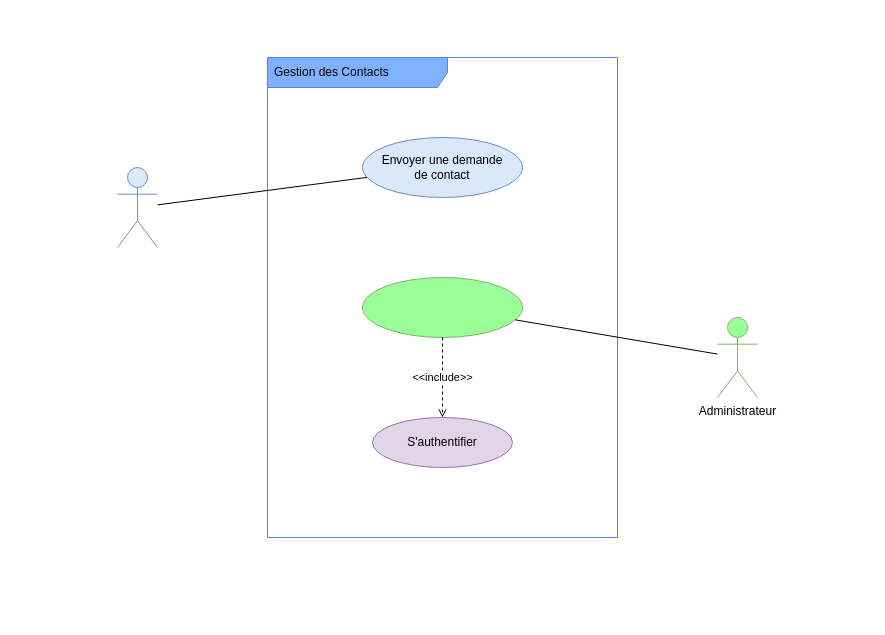
This 885x635 diagram has some shape labels left out. The shapes that lost their labels are listed below. From the top down, each one's centre as x and y in pixels, then its label:
At point (137, 207): "Visiteur".
At point (442, 307): "Consulter et traiter les messages reçus".
